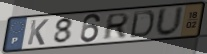6: (79, 13, 102, 44)
8: (52, 16, 74, 44)
D: (129, 9, 156, 39)
K: (26, 18, 51, 47)
R: (101, 11, 132, 41)
U: (154, 5, 185, 38)
